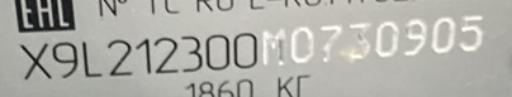letter: (344, 20, 374, 65), (17, 40, 51, 79), (374, 18, 402, 63), (428, 16, 458, 55), (289, 24, 319, 63), (204, 31, 230, 76), (104, 38, 134, 77), (260, 26, 288, 67), (458, 12, 484, 55), (402, 16, 428, 59), (50, 40, 78, 79), (232, 29, 258, 70), (318, 21, 342, 64), (178, 33, 202, 76), (153, 35, 179, 74), (80, 38, 104, 77), (132, 36, 154, 75)
